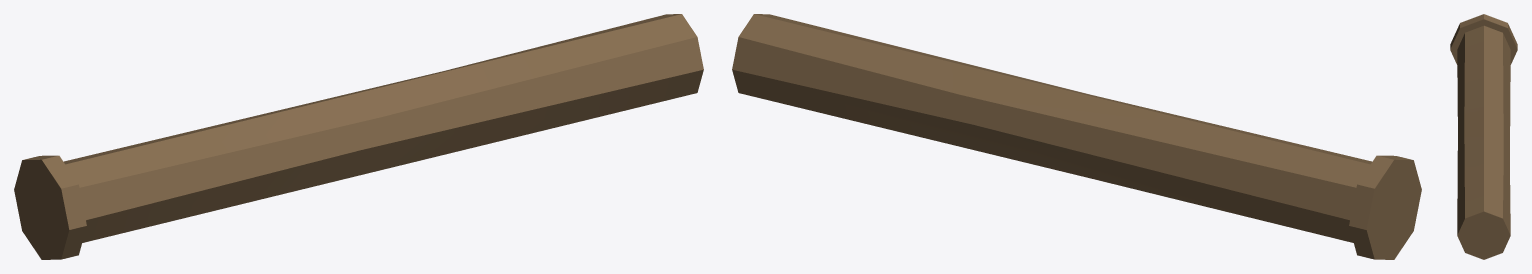
The model's file is SM_Prop_Pipe_02_Straight_03.fbx.
The picture shows the model from 3 angles, left to right: view 1: azimuth 30°, elevation 25°; view 2: azimuth 150°, elevation 25°; view 3: azimuth 270°, elevation 25°; orthographic projection. The views are drawn at different scales.
Parts seen in each view (by area): view 1: SM_Prop_Pipe_02_Straight_03; view 2: SM_Prop_Pipe_02_Straight_03; view 3: SM_Prop_Pipe_02_Straight_03.
Boxes of the visible parts, x1,y1,x2,y2 form: SM_Prop_Pipe_02_Straight_03: [14, 14, 703, 259]; SM_Prop_Pipe_02_Straight_03: [732, 14, 1421, 259]; SM_Prop_Pipe_02_Straight_03: [1450, 14, 1517, 259].
Size of the model in its own units: 127 by 18.95 by 18.95.
